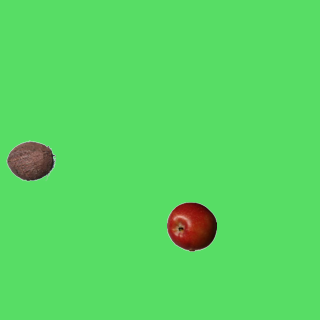Apple Braeburn: (166, 201, 216, 251)
Cocos: (5, 135, 55, 185)
